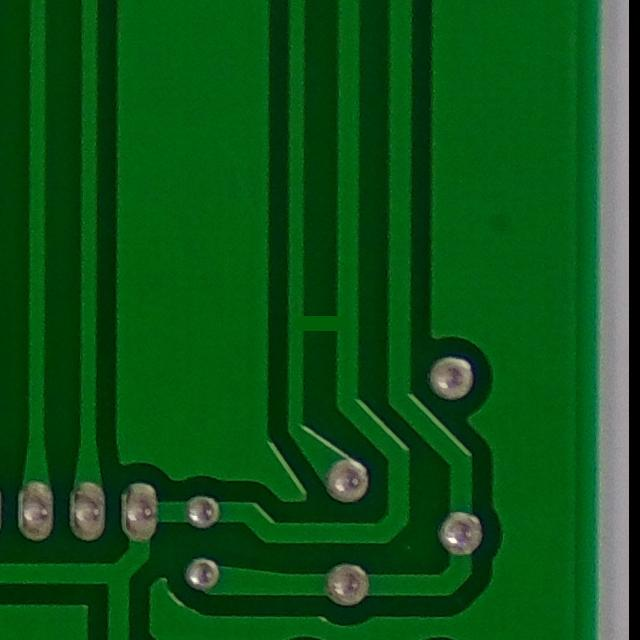short: (280, 290, 360, 351)
